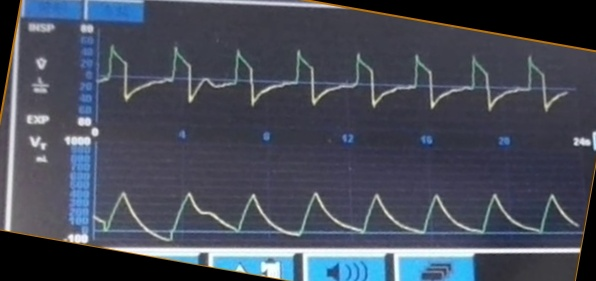Premature_cycling Flow: (100, 41, 567, 127)
Premature_cycling Volume: (96, 170, 578, 244)
